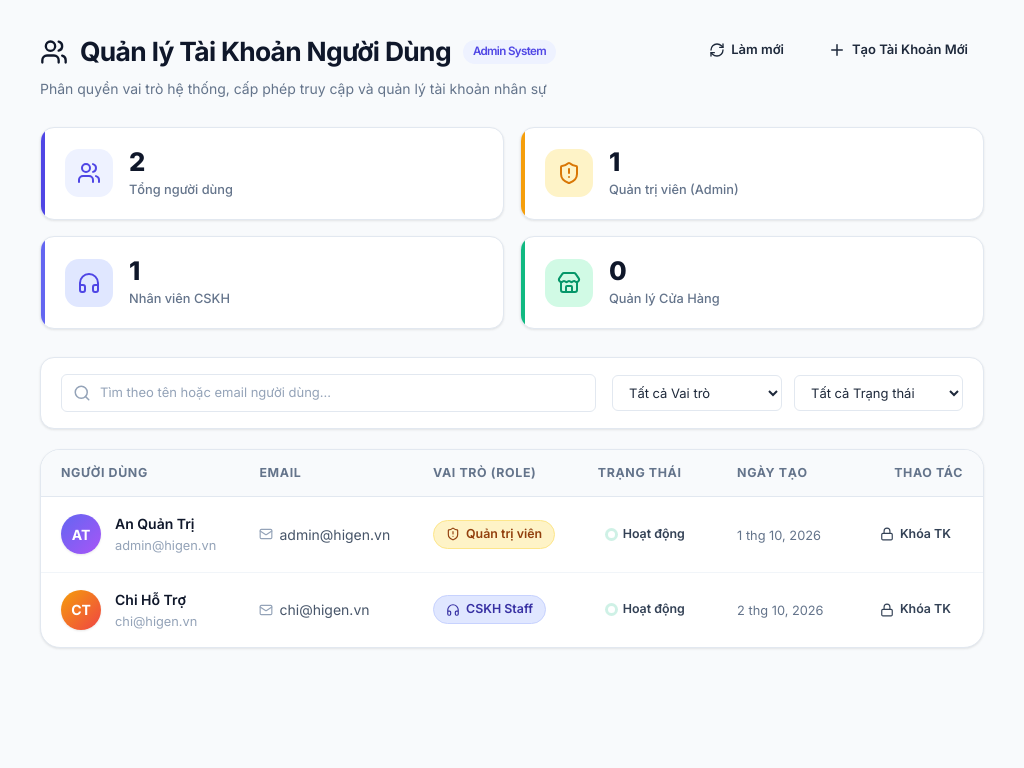
it: Mục 1 (FE Security trên RAM) - Nhóm 1.4: Quản lý tài khoản Admin (UsersPage) › [TC-FE-SEC-11A] Lọc danh sách tài khoản trên UsersPage theo từ khóa và vai trò
Expected: the text "An Quản Trị" is shown, [115,515,194,532]
Expected: the text "Chi Hỗ Trợ" is shown, [115,589,197,610]
Note: Act (Thực thi): Gõ từ khóa "Chi" vào ô tìm kiếm
Type "Chi" into the field with placeholder "Tìm theo tên hoặc email người dùng..." at {"x": 328, "y": 393}, box [61,374,596,412]
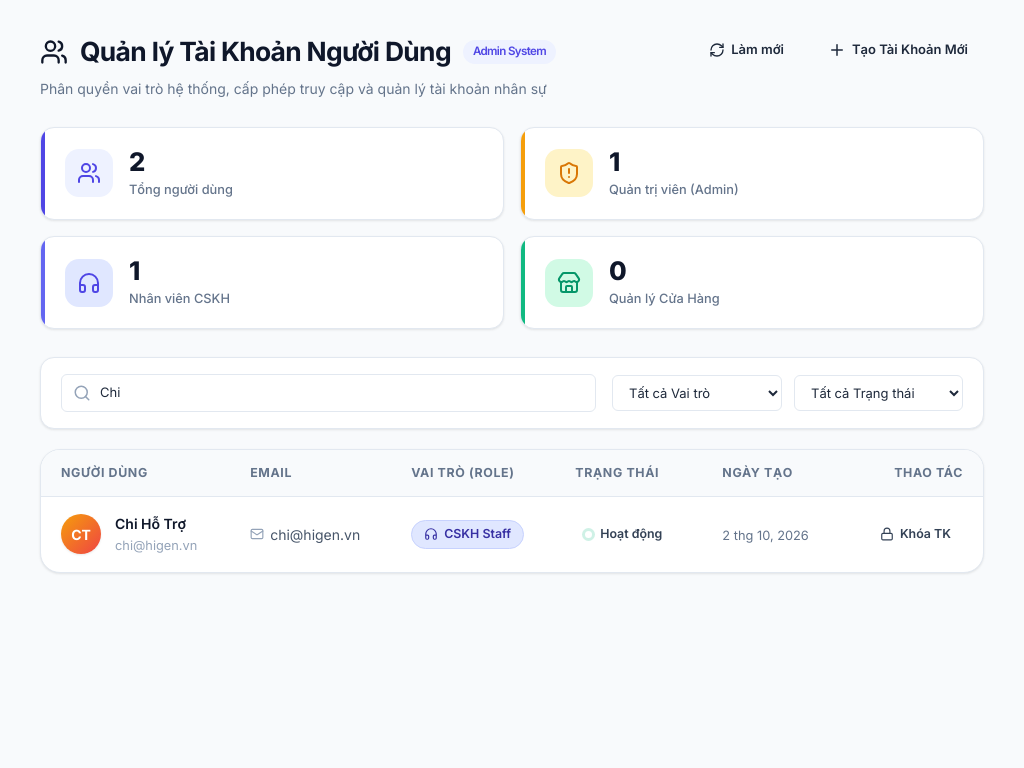
Expected: the text "Chi Hỗ Trợ" is shown, [115,513,197,534]
Now the text "An Quản Trị" is gone
